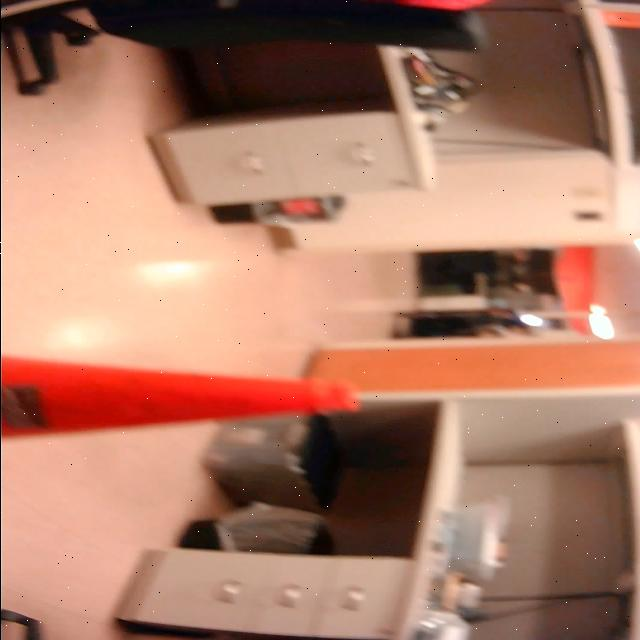traffic cone: (1, 349, 370, 444)
